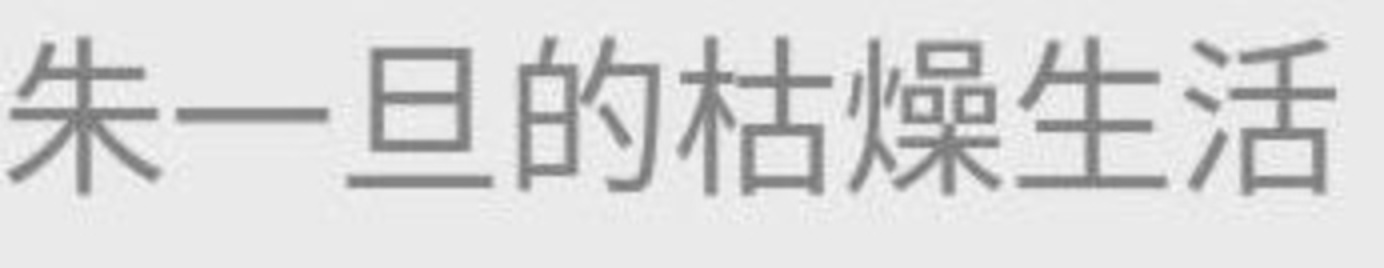TextView: (1, 1, 1383, 267)
